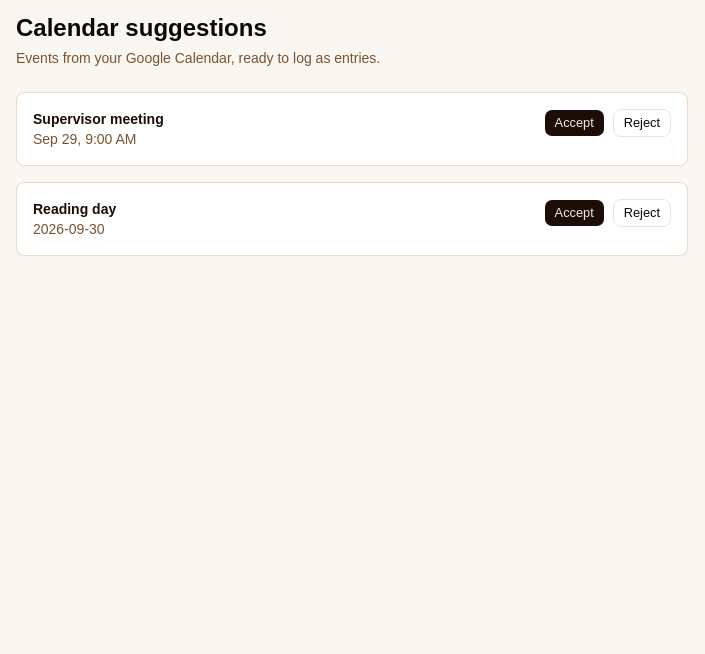
it: SuggestionsPage › logs an accepted suggestion as an entry in the chosen project
Click the button "Accept" in the row of "Supervisor meeting": x=574, y=123 [544, 109, 605, 137]
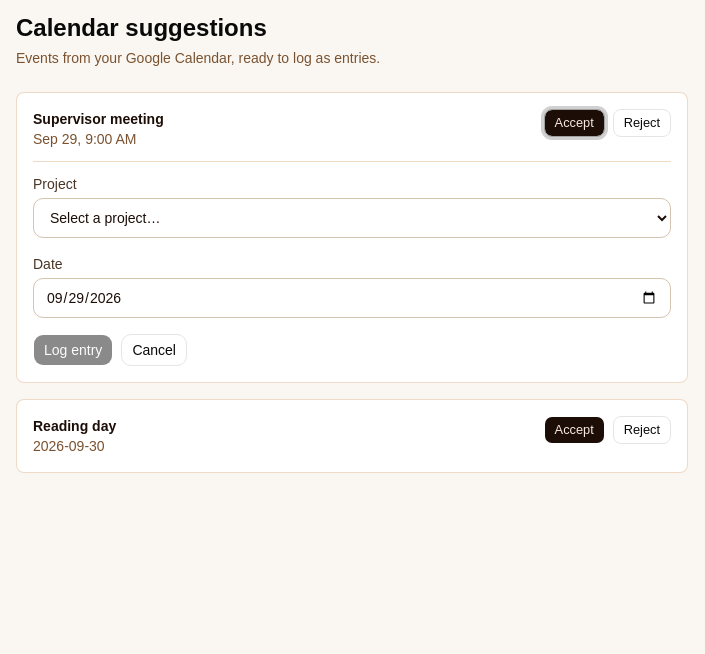
Now the date field labelled "Date" holds "2026-09-29", box [33, 278, 671, 318]
Select "Thesis" in the dropdown labelled "Project": x=352, y=218 [33, 198, 671, 238]
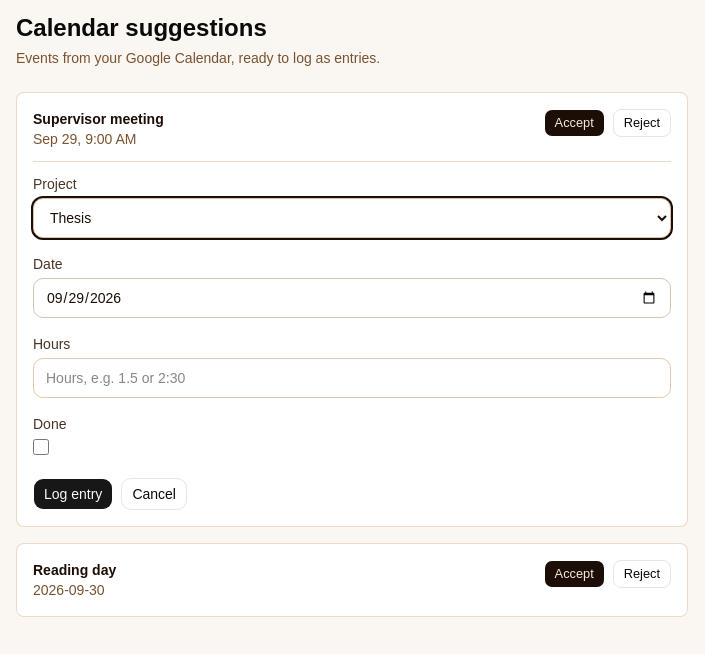
// Required non-boolean fields are validated before anything is sent.
Click the button "Log entry": x=73, y=494 [33, 478, 113, 510]
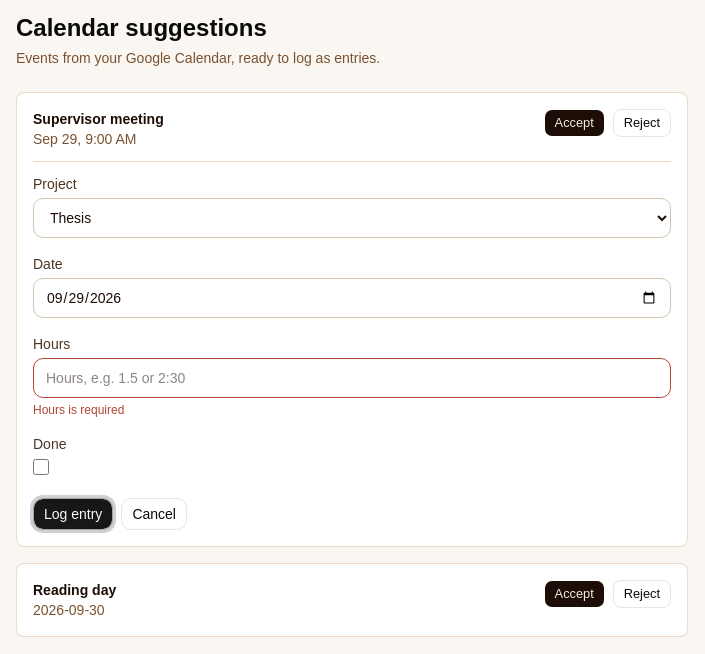
Now the text "Hours is required" is shown, box [33, 403, 124, 417]
In the field labelled "Hours": x=352, y=378 [33, 358, 671, 398], type "1.5"
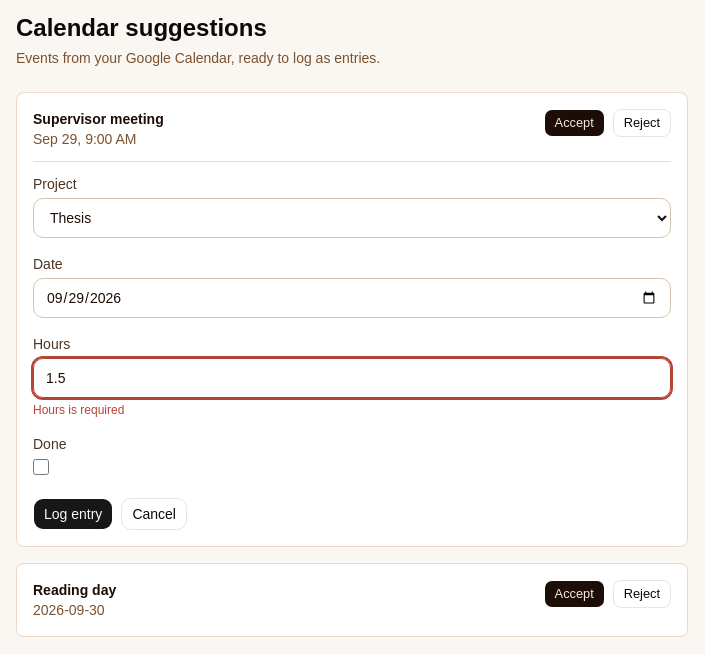
Click the checkbox labelled "Done": x=41, y=467 [33, 459, 49, 475]
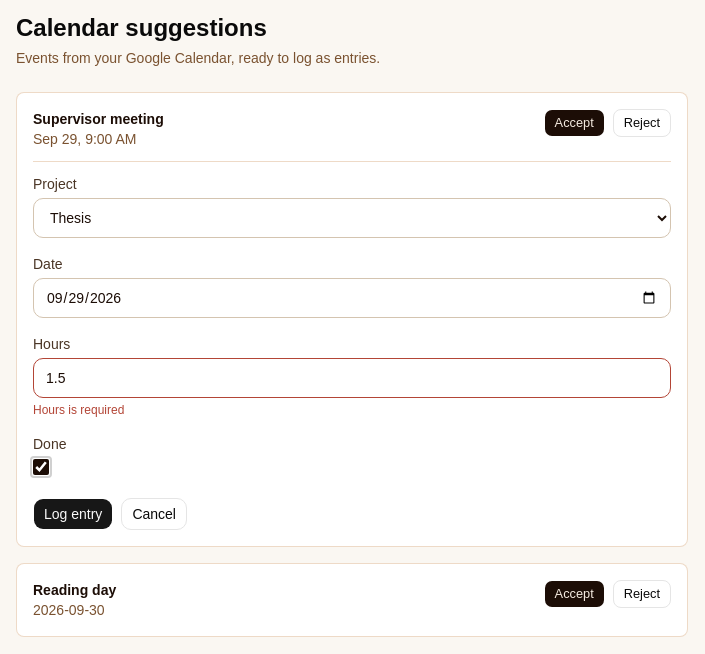
Click the button "Log entry": x=73, y=514 [33, 498, 113, 530]
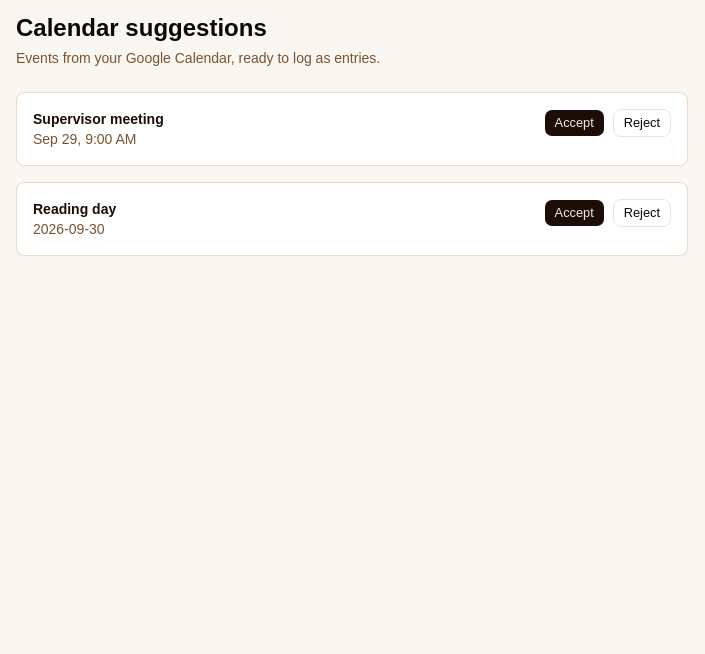
Now the button "Log entry" is gone
